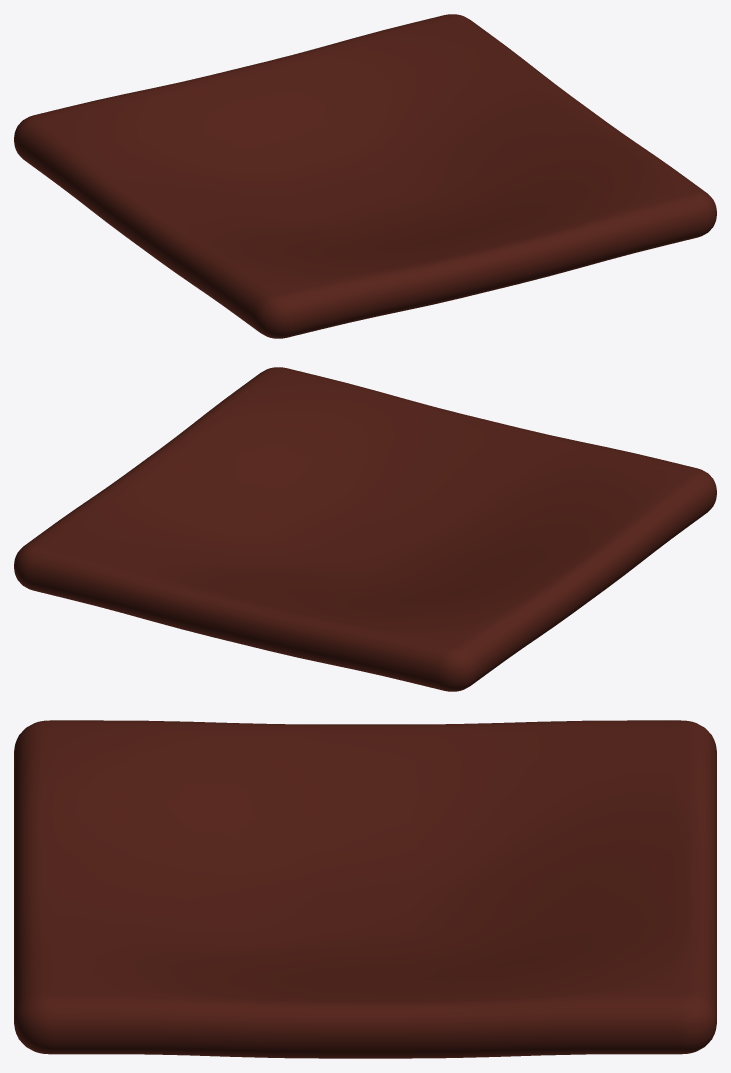
File: Cushion.fbx
3 renders of one model, top to bottom at view 1: azimuth 30°, elevation 25°; view 2: azimuth 150°, elevation 25°; view 3: azimuth 270°, elevation 25°, orthographic. The views are drawn at different scales.
Parts seen in each view (by area): view 1: Plane; view 2: Plane; view 3: Plane.
Part boxes in pixels (left/top/right/bottom): Plane: left=14, top=14, right=716, bottom=338; Plane: left=14, top=367, right=716, bottom=691; Plane: left=14, top=720, right=716, bottom=1058.
Bounding box in the file's own units: 200 × 19.19 × 200.
